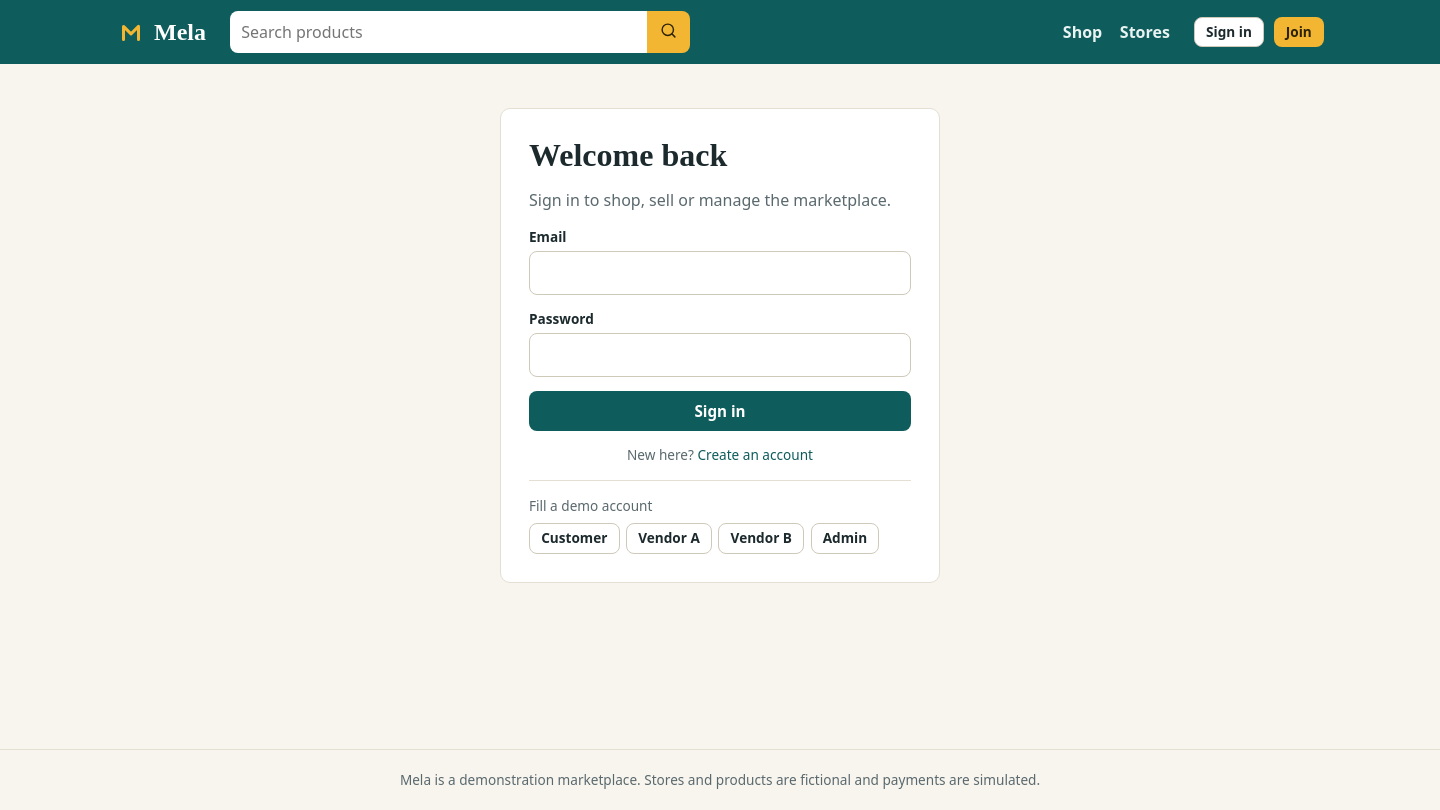
login › never writes a token to browser storage
Type "admin@example.com" into the field labelled "Email" at (720, 273), box 529,251 -> 911,294
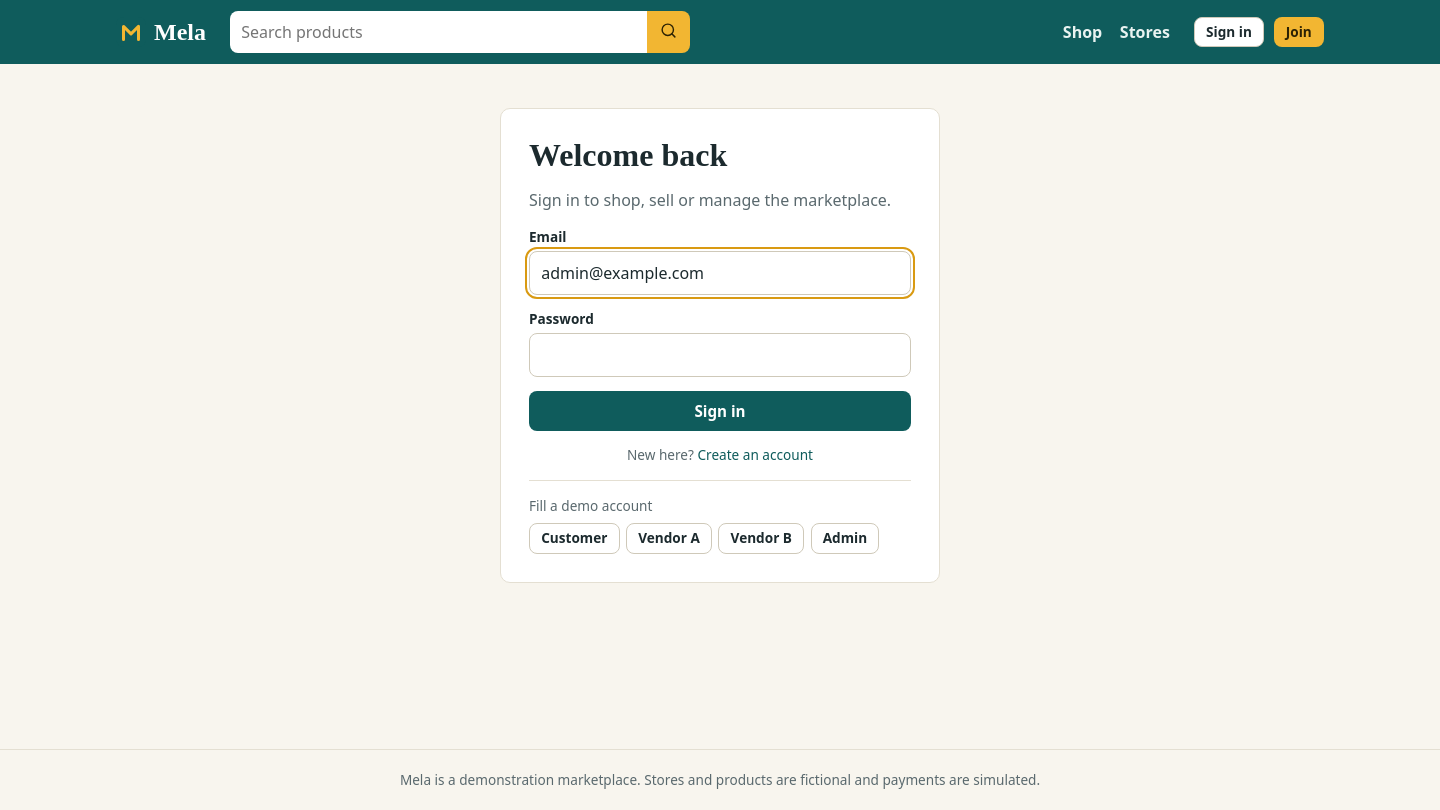
Type "Admin@12345" into the password field labelled "Password" at (720, 355), box 529,333 -> 911,377
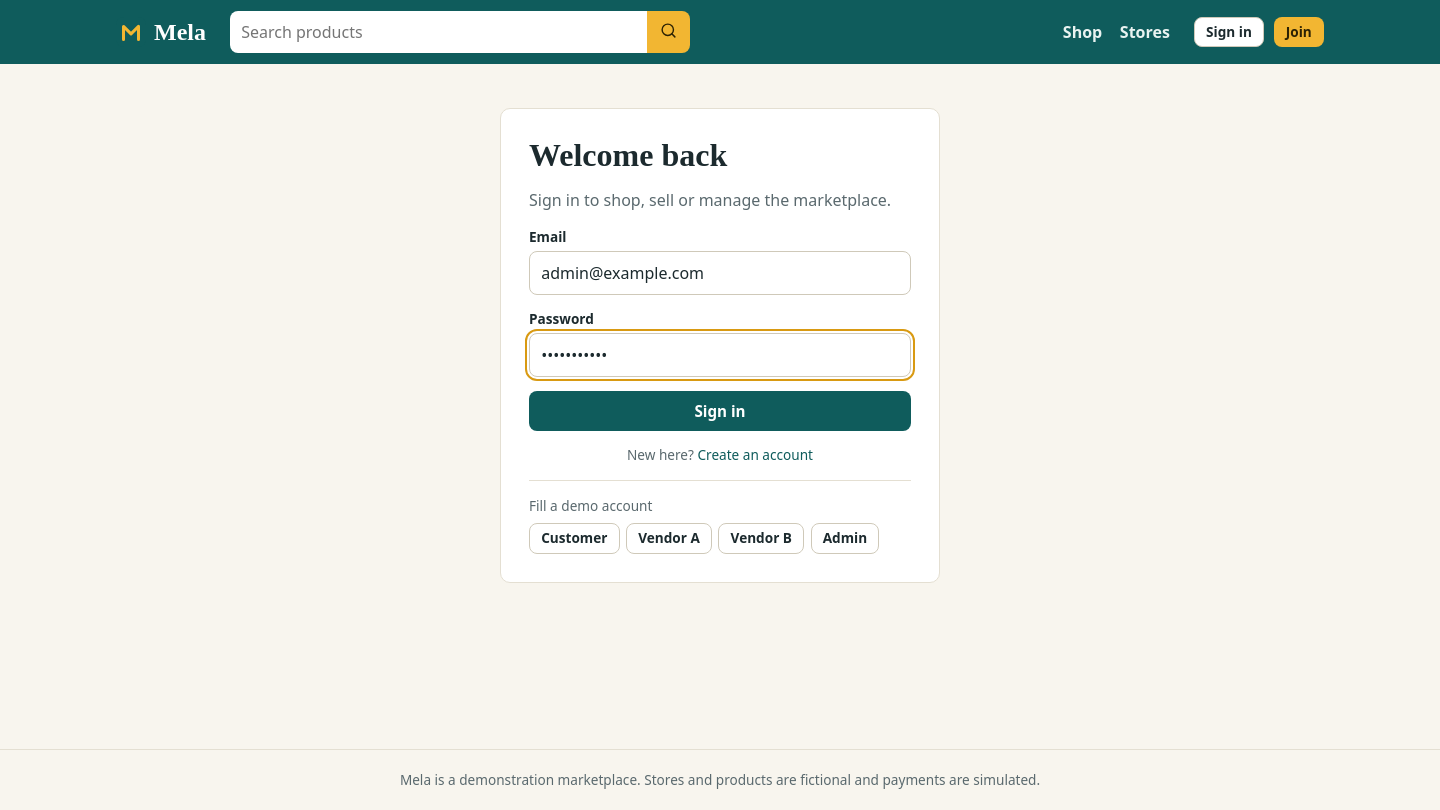
Click the button "Sign in" at (720, 411), box 529,391 -> 911,431
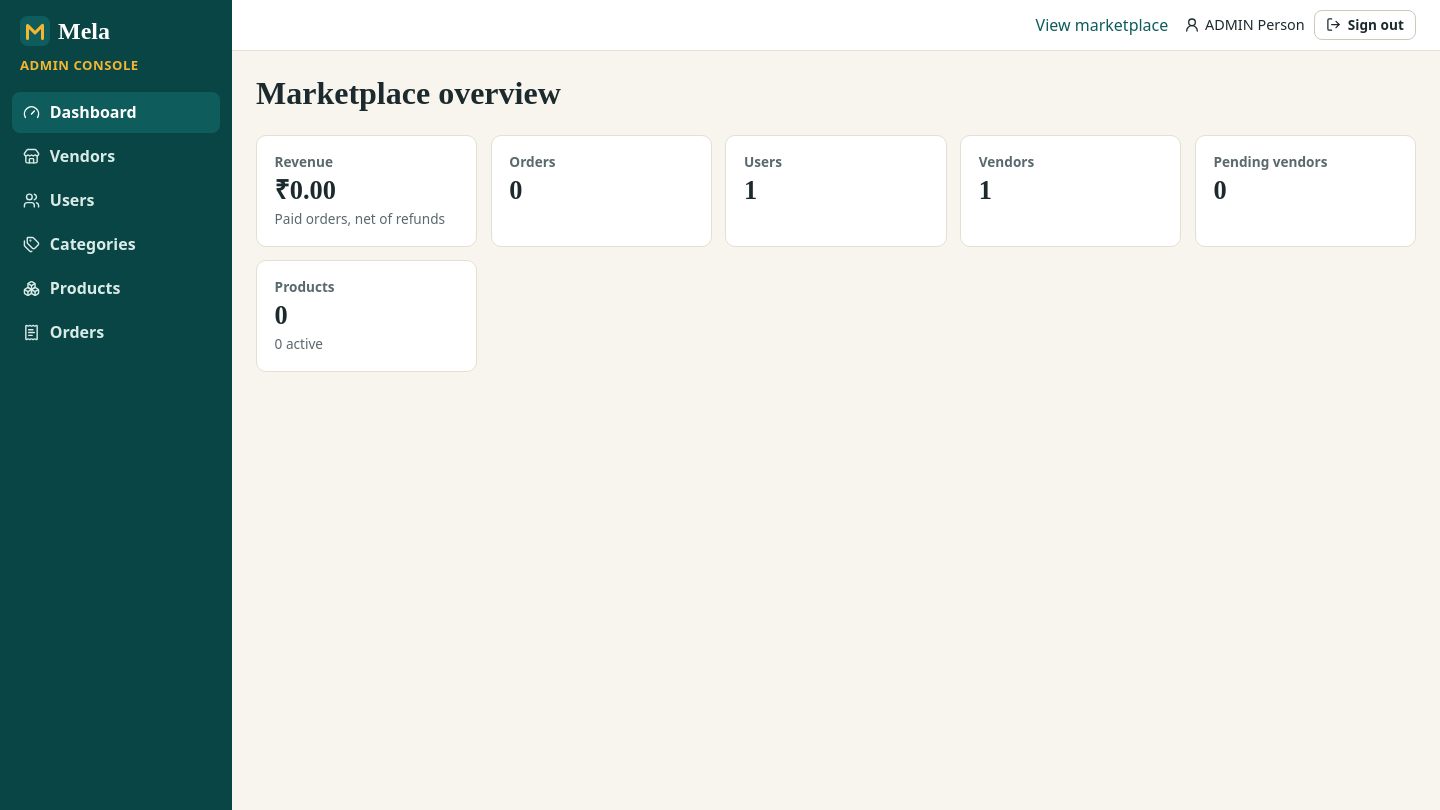
expect the heading "Marketplace overview" is shown: met, box 256,75 -> 561,112
